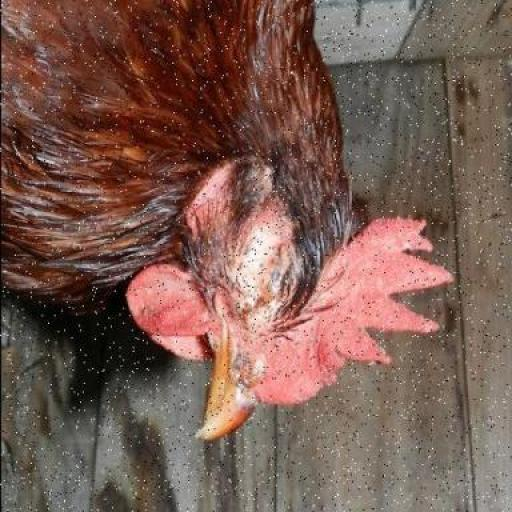disease: (190, 174, 356, 441)
